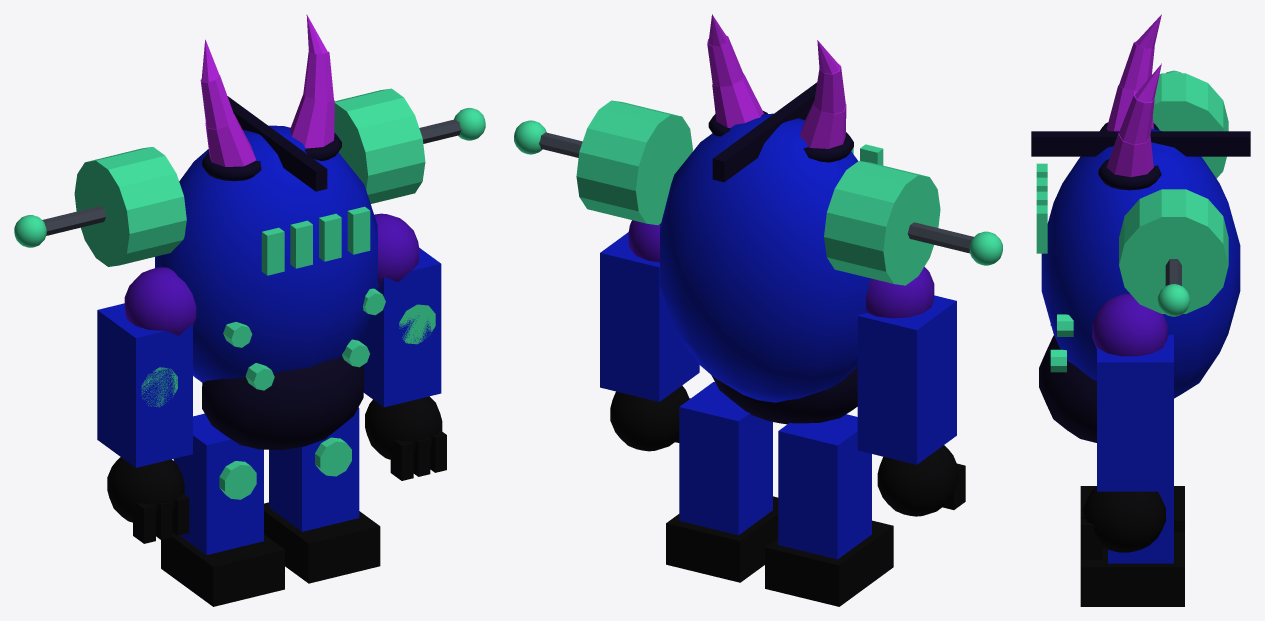
File: Enemy_beetle.fbx
3 renders of one model, left to right at view 1: azimuth 30°, elevation 25°; view 2: azimuth 150°, elevation 25°; view 3: azimuth 270°, elevation 25°, orthographic. The views are drawn at different scales.
Visible parts, largest first — view 1: Enemy_beetle; view 2: Enemy_beetle; view 3: Enemy_beetle.
Part boxes in pixels (<box>): Enemy_beetle: <box>14,14,485,606</box>; Enemy_beetle: <box>514,14,1002,606</box>; Enemy_beetle: <box>1031,14,1250,606</box>.
Size of the model in its own units: 0.9776 by 1.06 by 0.4.
